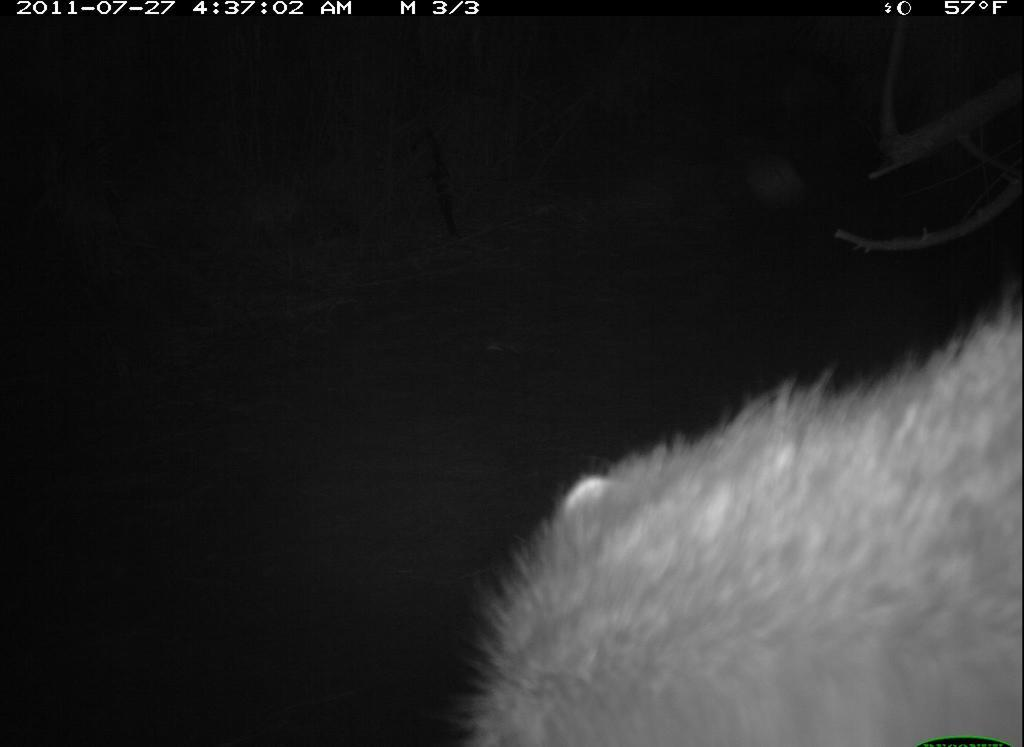raccoon: (482, 303, 1014, 747)
